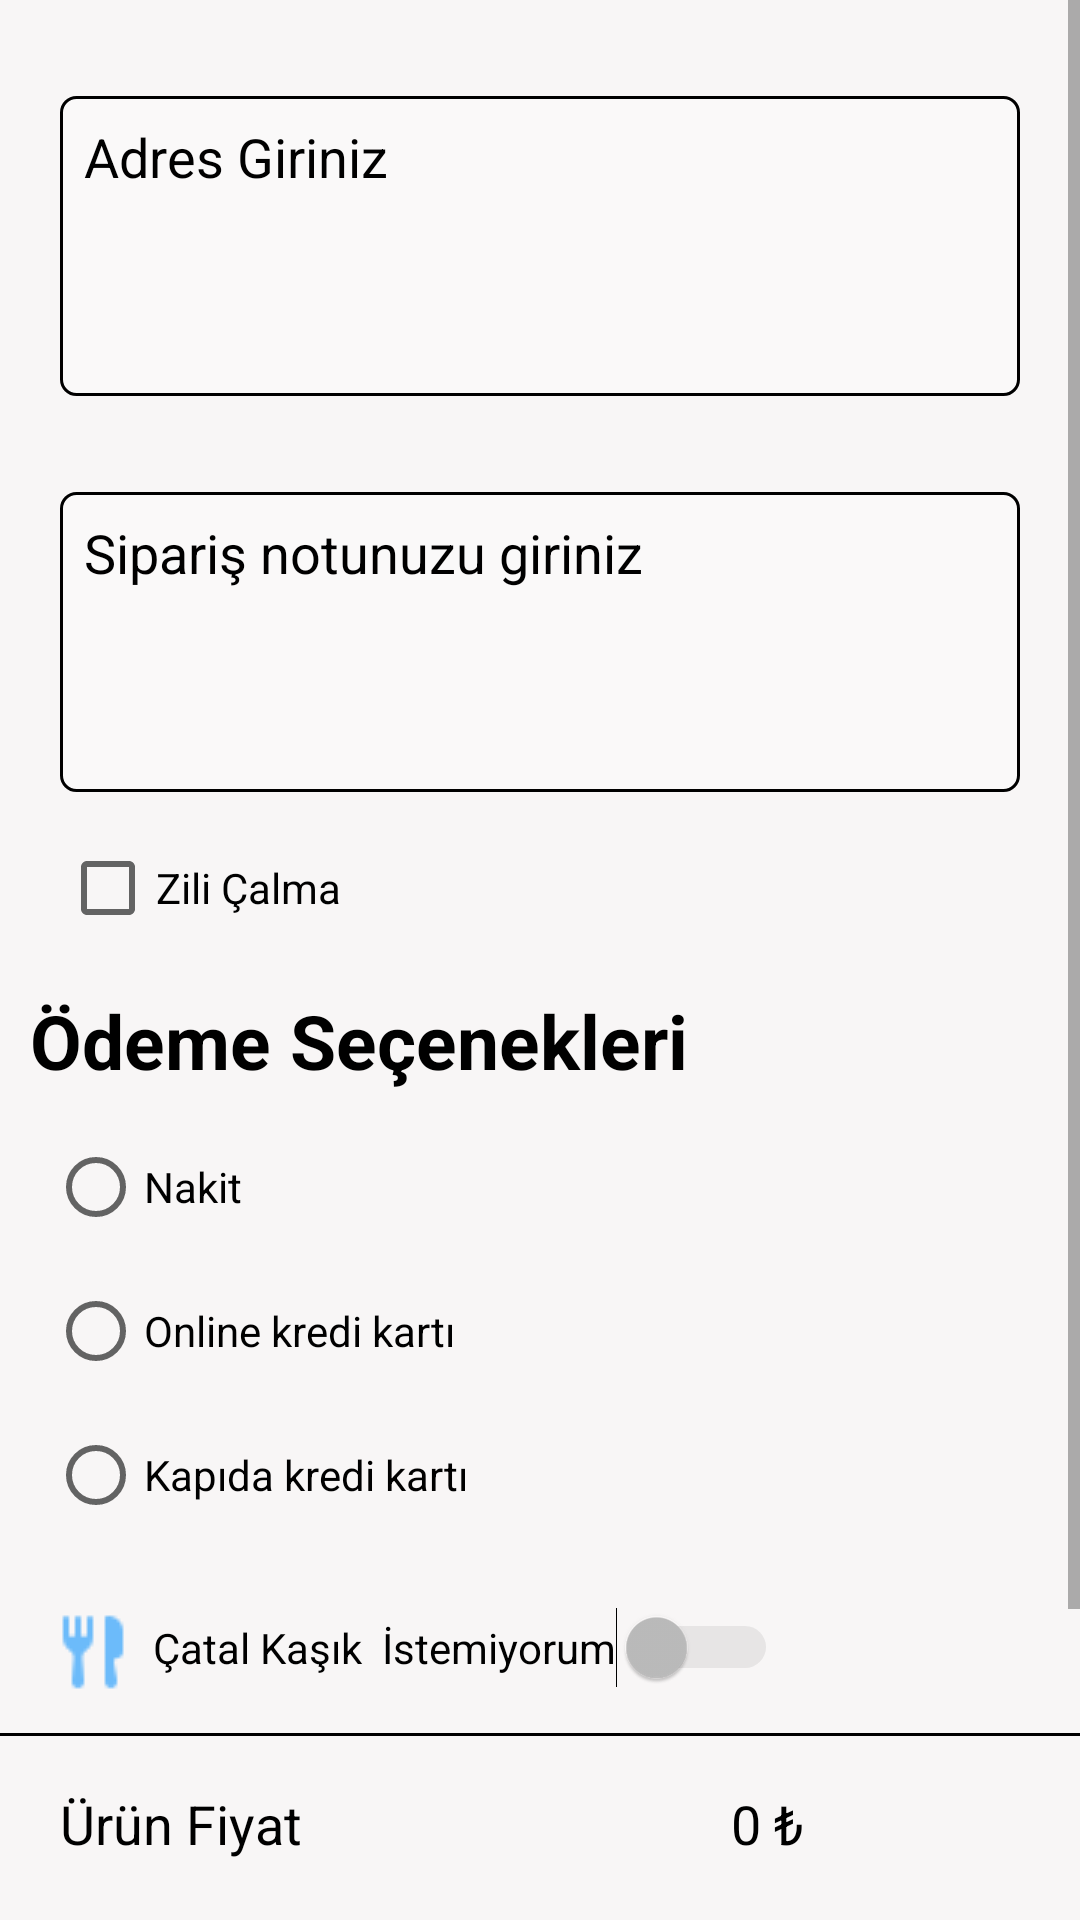

Icon bounding boxes for this 1080*1920 phone screenshot, format rect(x1, y1, x2, y2):
catalbicak: rect(62, 1615, 124, 1689)
